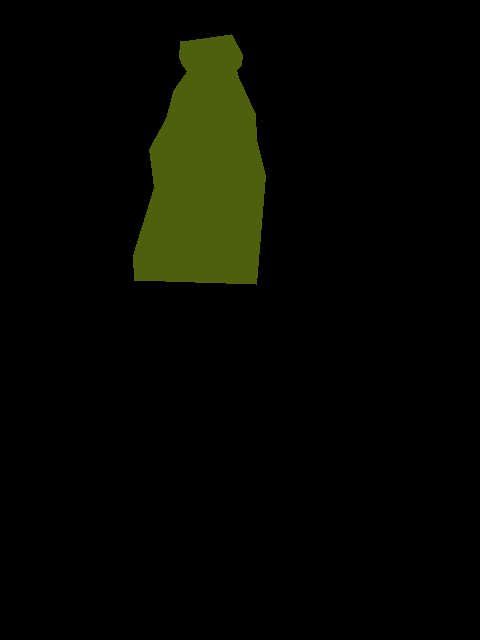Train: (133, 34, 266, 285)
